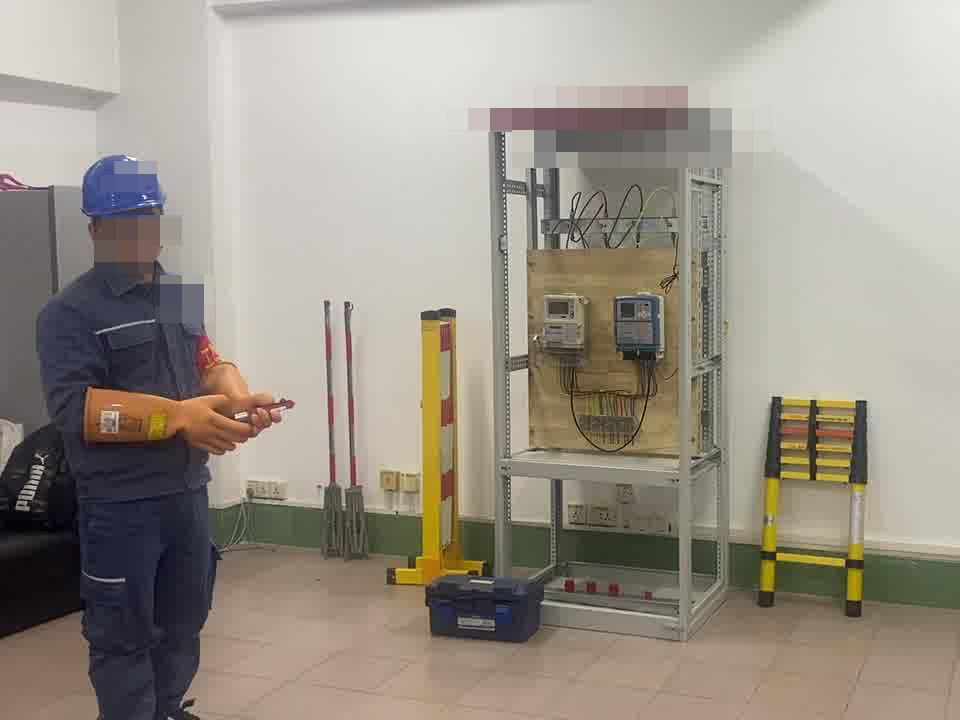badge: (195, 334, 220, 373)
downsuit: (77, 503, 220, 720)
halt: (81, 154, 169, 268)
longglove: (83, 361, 294, 456)
person: (18, 151, 275, 720)
testrod: (229, 399, 298, 422)
upsuit: (36, 263, 227, 500)
wronghold: (229, 397, 285, 421)
